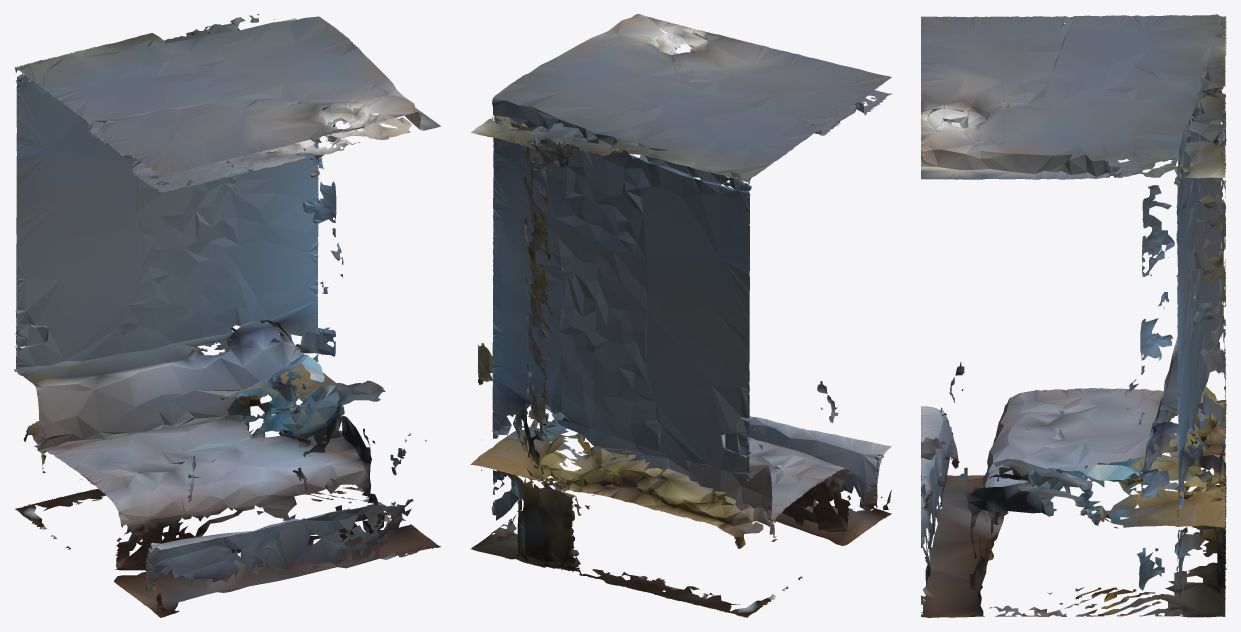
Rendered from coarse.glb.
3 views of the same model, side by side, from view 1: azimuth 30°, elevation 25°; view 2: azimuth 150°, elevation 25°; view 3: azimuth 270°, elevation 25° (orthographic). The views are drawn at different scales.
Size of the model in its own units: 1.89 by 2.86 by 1.7.
